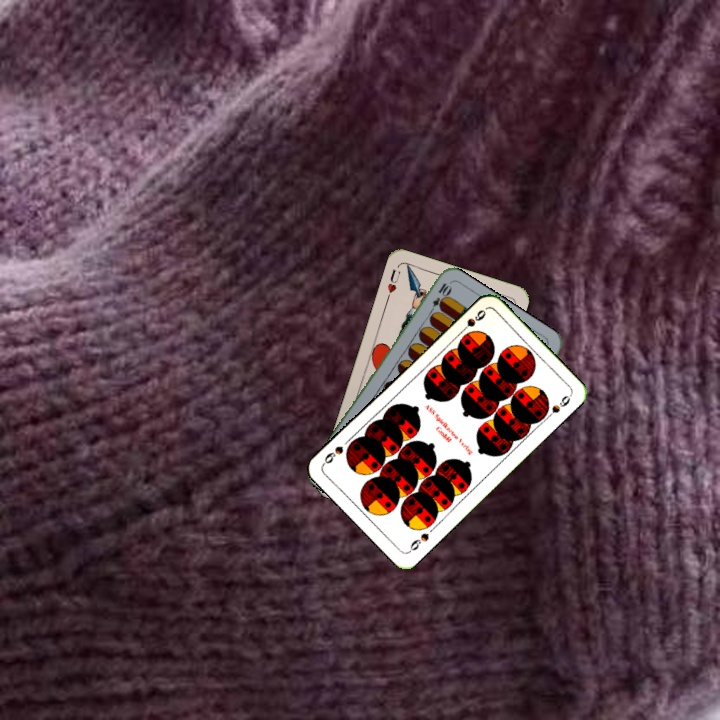E10: (425, 279, 453, 317)
HU: (383, 265, 403, 302)
S9: (455, 306, 489, 337), (405, 529, 432, 555)
